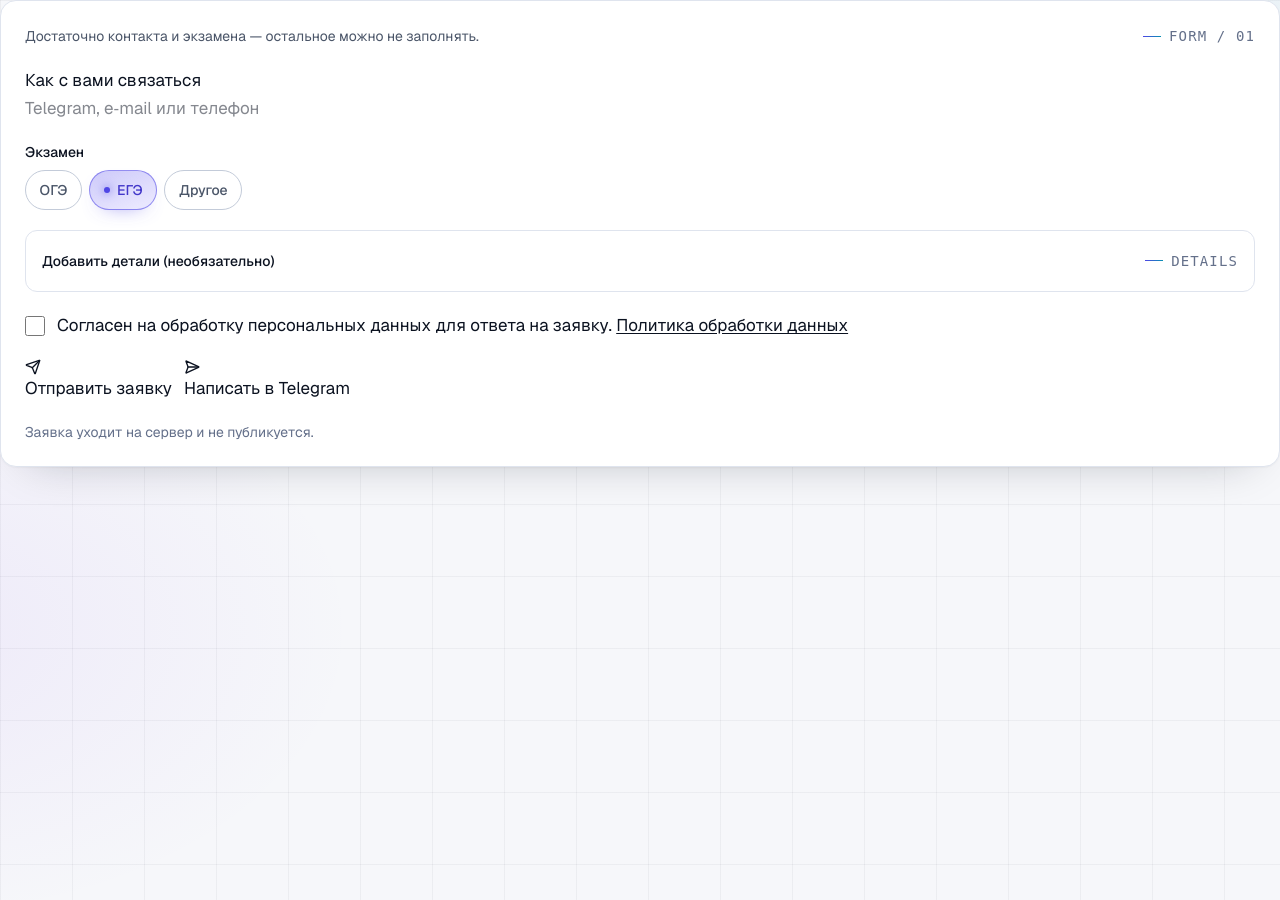
it: TutorLeadForm › rejects a contact that is neither Telegram, e-mail nor phone
Type "abc" into the field labelled "Как с вами связаться" at (142, 108), box [25,95,258,122]
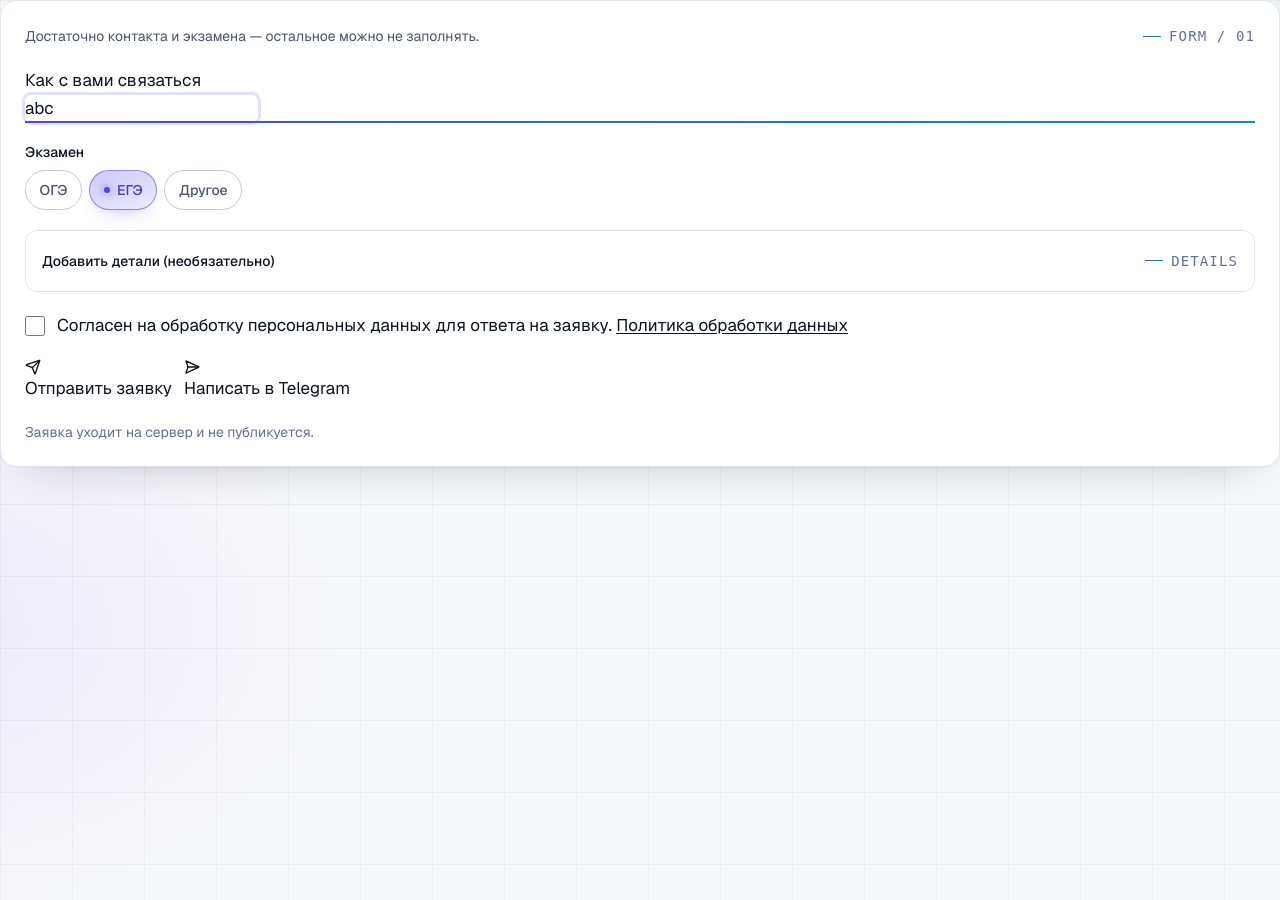
Click the checkbox labelled "Согласен на обработку" at (35, 326), box [25,316,45,336]
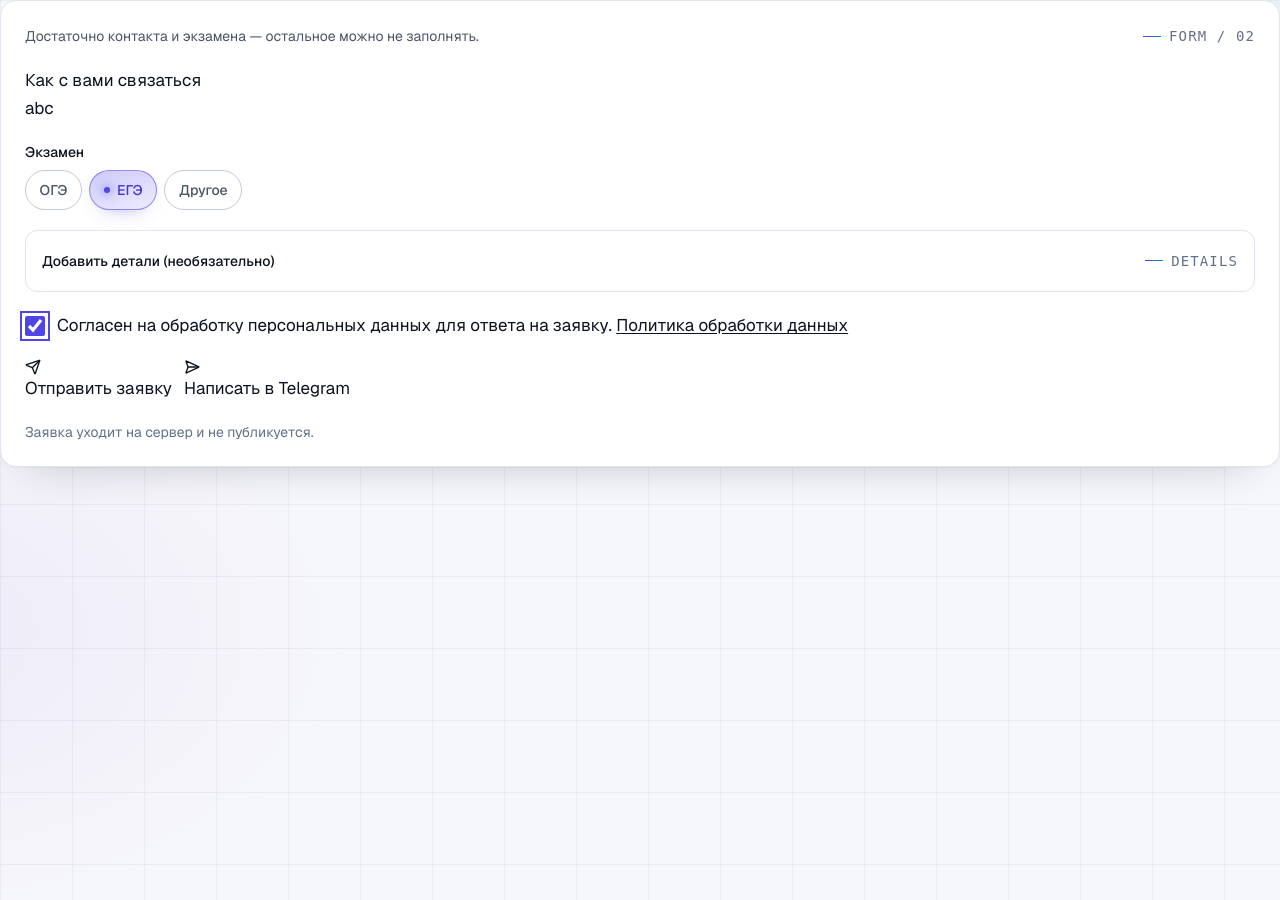
Click the button "Отправить заявку" at (98, 381), box [25,359,172,402]
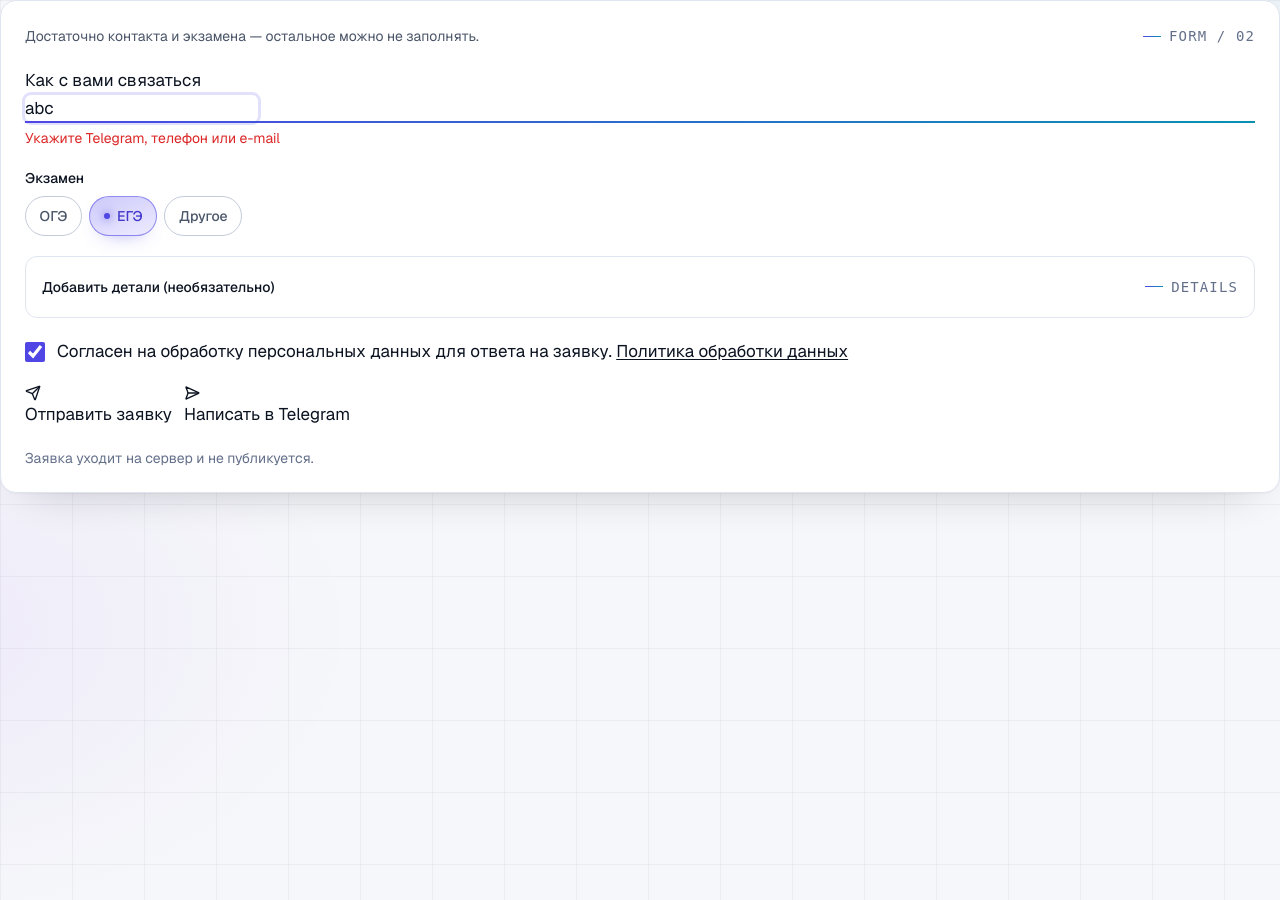
Check: the text "Укажите Telegram, телефон или e-mail" is shown, box [25,129,280,147]
